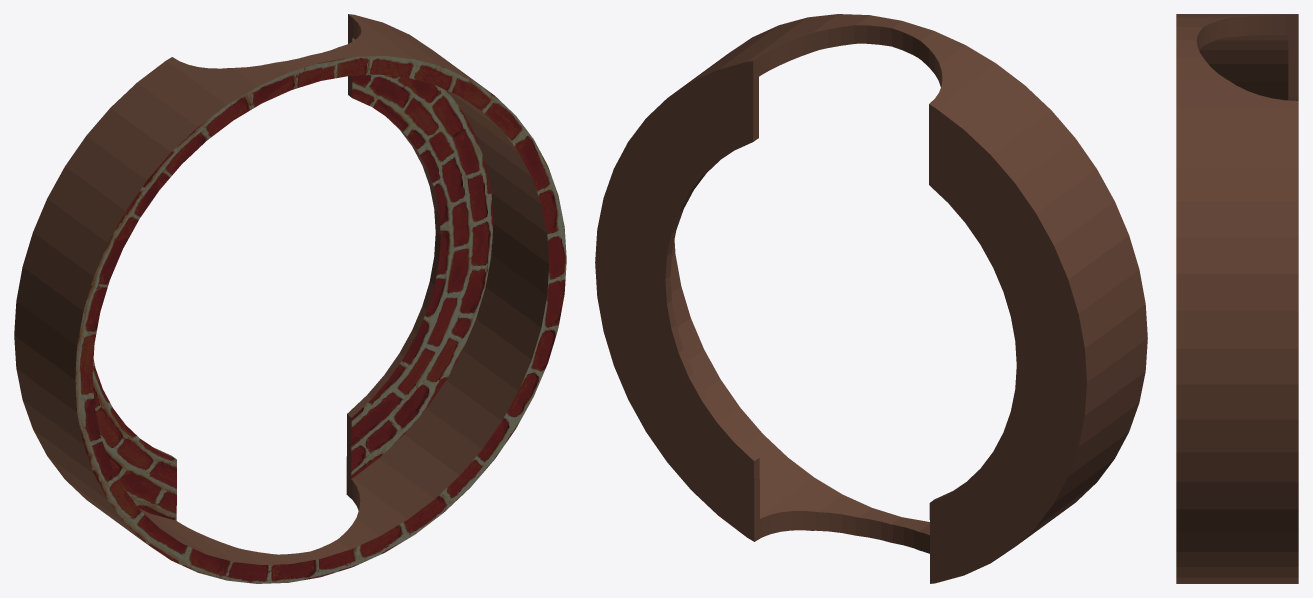
The model's file is pool_013.obj.
The picture shows the model from 3 angles, left to right: view 1: azimuth 30°, elevation 25°; view 2: azimuth 150°, elevation 25°; view 3: azimuth 270°, elevation 25°; orthographic projection.
Bounding box in the file's own units: 28 × 28 × 6.
